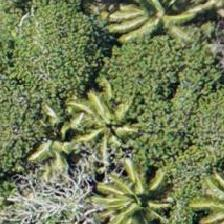coconut_tree: (62, 66, 152, 156), (14, 86, 104, 176), (77, 148, 167, 223), (110, 0, 200, 45)
